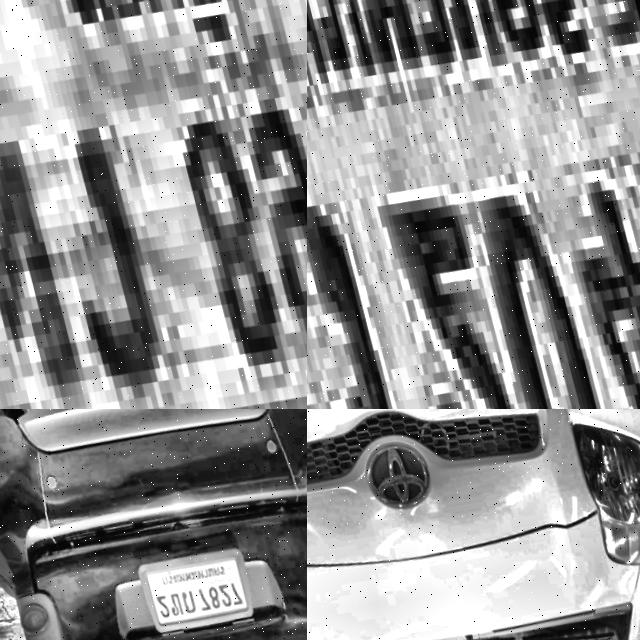license-plate: (307, 0, 640, 409), (0, 0, 307, 409), (131, 535, 260, 638)
